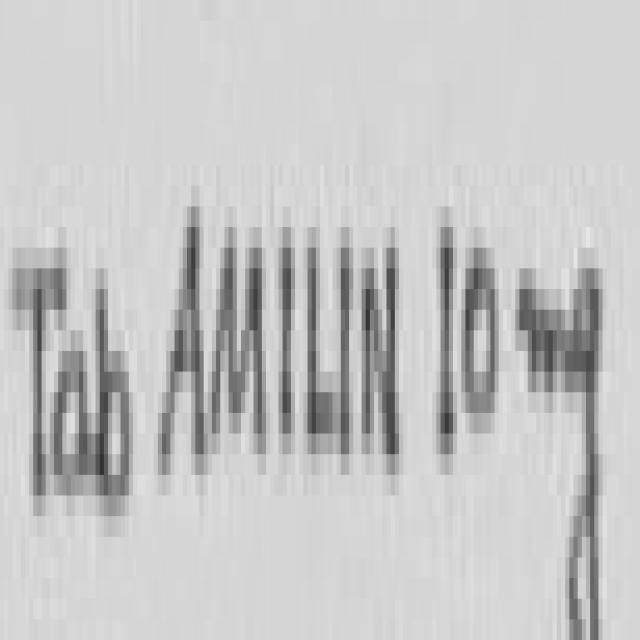0: (465, 255, 499, 426)
1: (438, 232, 454, 444)
A: (162, 227, 204, 491)
I: (282, 246, 292, 446), (341, 255, 350, 444)
L: (310, 246, 336, 446)
M: (212, 258, 266, 454)
N: (366, 248, 399, 454)
T: (19, 268, 66, 485)
a: (54, 351, 100, 495)
b: (99, 272, 134, 502)
g: (568, 268, 603, 640)
m: (519, 289, 574, 398)
